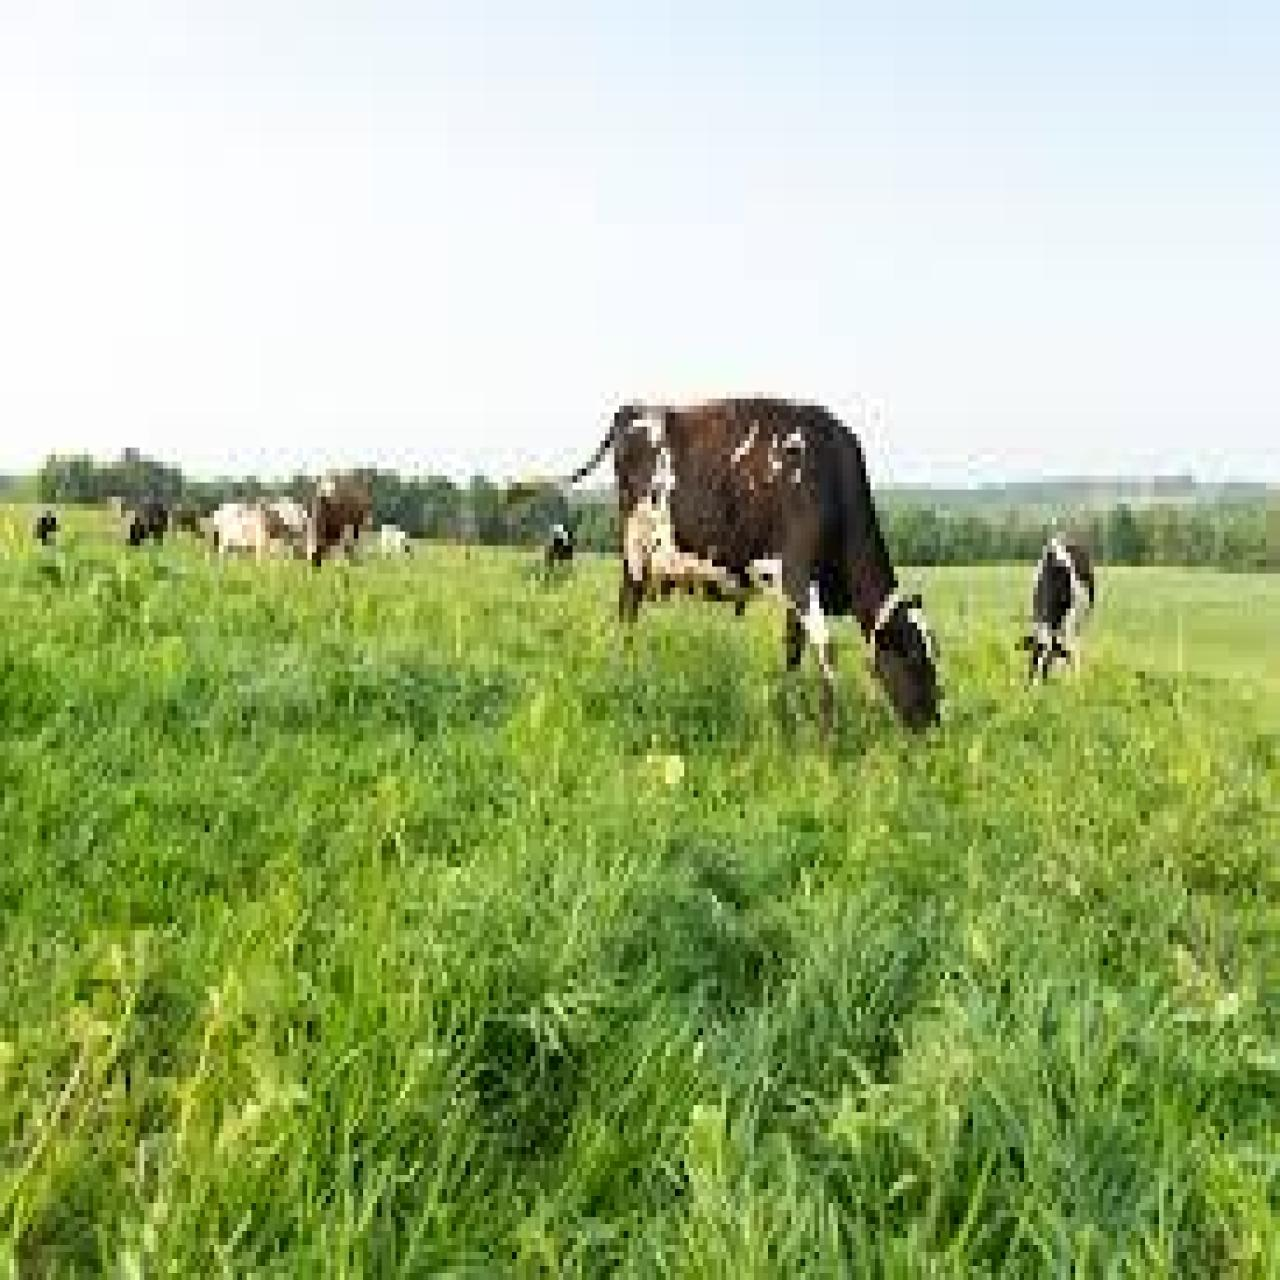cow: (612, 395, 947, 751), (1013, 531, 1096, 700), (305, 462, 380, 587), (186, 493, 279, 570), (125, 504, 168, 545), (543, 524, 574, 573)
